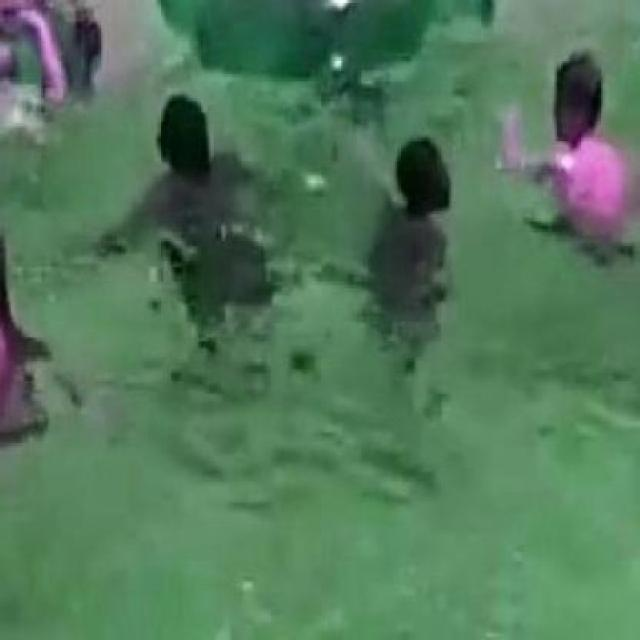drowning: (540, 50, 622, 238), (153, 95, 247, 243), (374, 138, 452, 310)
